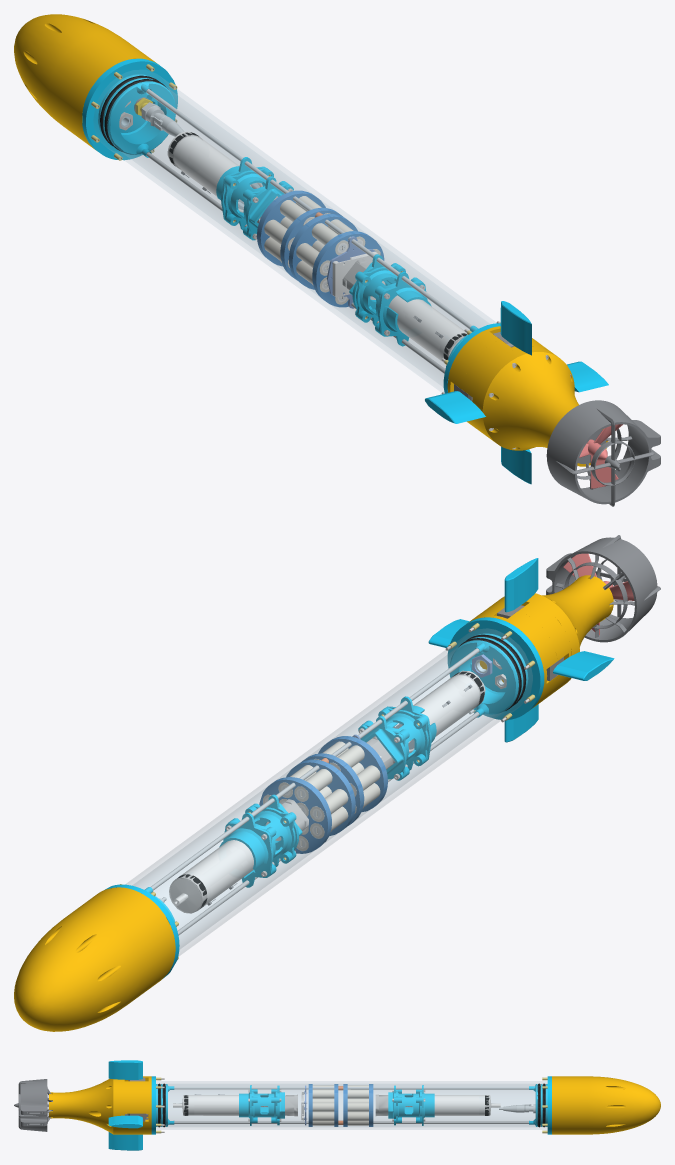
File: assembly-internals.glb
The picture shows the model from 3 angles, top to bottom: view 1: azimuth 30°, elevation 25°; view 2: azimuth 150°, elevation 25°; view 3: azimuth 270°, elevation 25°; orthographic projection. The views are drawn at different scales.
Visible parts, largest first — view 1: 21700 Cell, Clear PVC Tube; view 2: 21700 Cell, Clear PVC Tube; view 3: 21700 Cell, Clear PVC Tube.
Boxes of the visible parts, x1,y1,x2,y2 form: 21700 Cell: [14, 14, 660, 506]; Clear PVC Tube: [97, 74, 495, 392]; 21700 Cell: [14, 535, 660, 1031]; Clear PVC Tube: [126, 628, 532, 955]; 21700 Cell: [14, 1060, 660, 1150]; Clear PVC Tube: [156, 1081, 547, 1129].
Size of the model in its own units: 0.2275 by 0.2275 by 1.51.
Materials: 2 (2 with a texture image).
